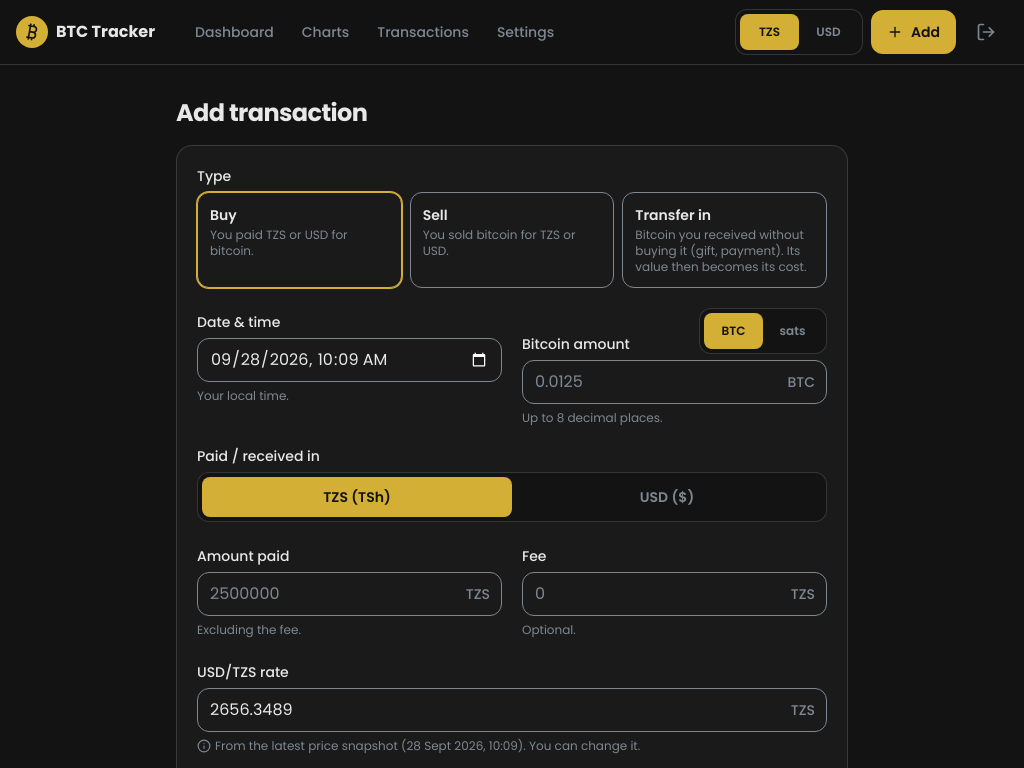
it: Add transaction form › shows validation errors that mirror the server rules
This screenshot has width=1024, height=768.
Click the radio button labelled "Sell You sold bitcoin for TZS or USD." at (512, 240), box [410,192,614,288]
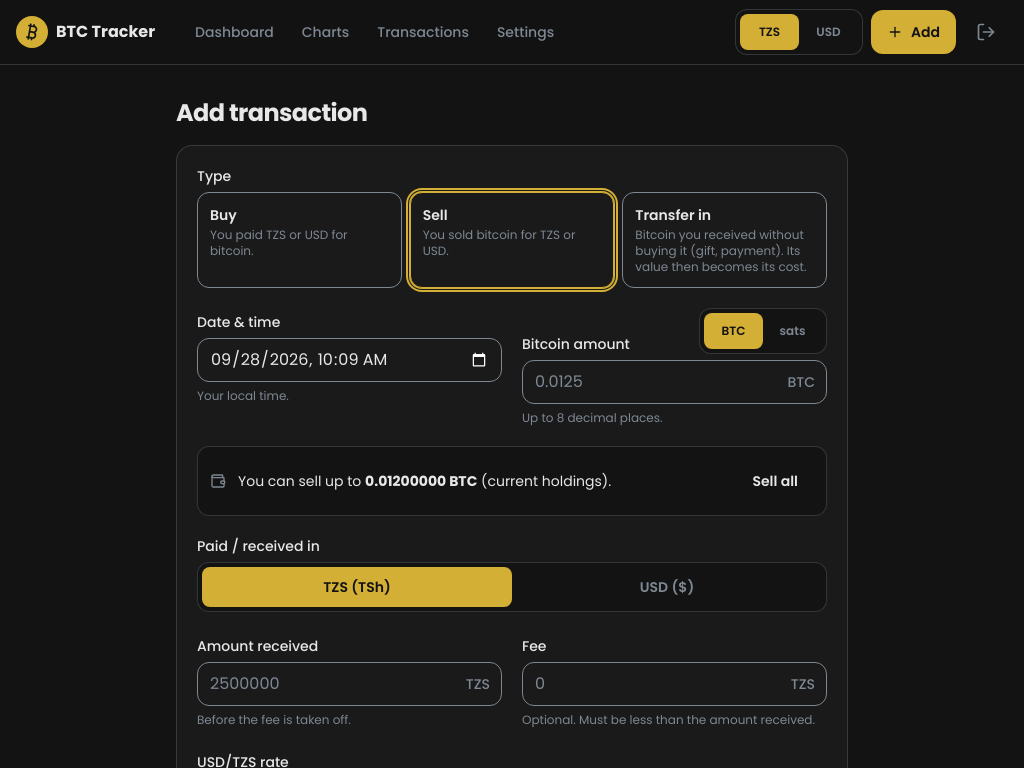
Type "0.123456789" into the field labelled "Bitcoin amount" at (674, 382), box [522,360,827,404]
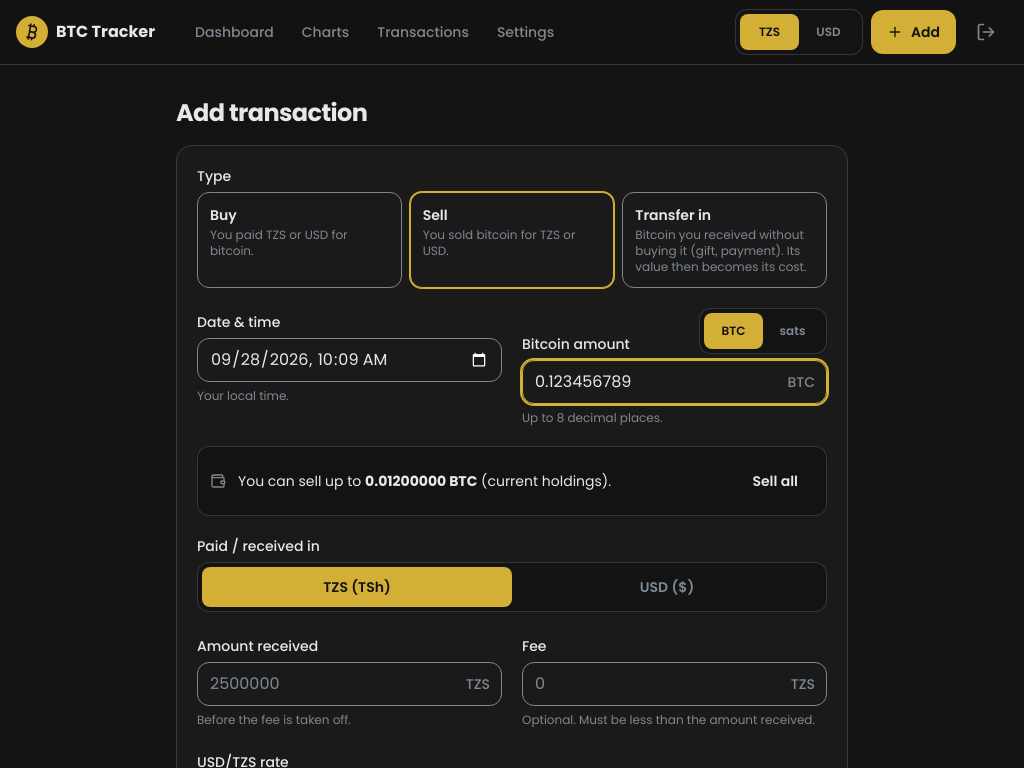
Type "330" into the field labelled "Amount received" at (350, 684), box [197,662,502,706]
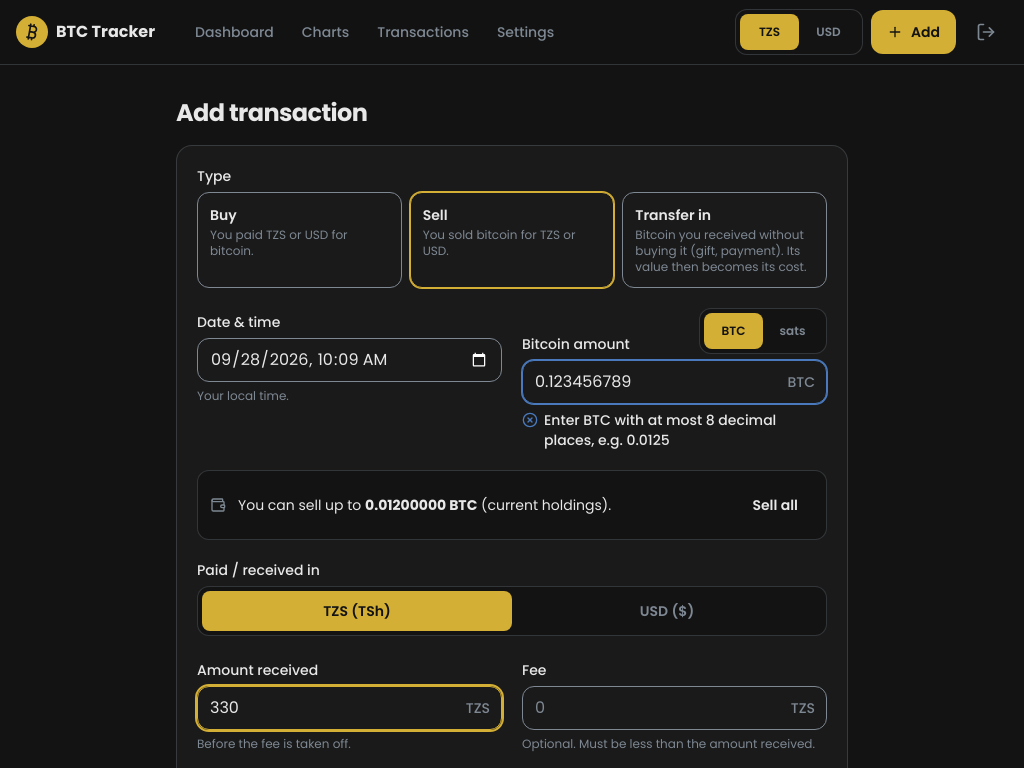
Type "330" into the field labelled "Fee" at (674, 708), box [522,686,827,730]
(page scrolled)
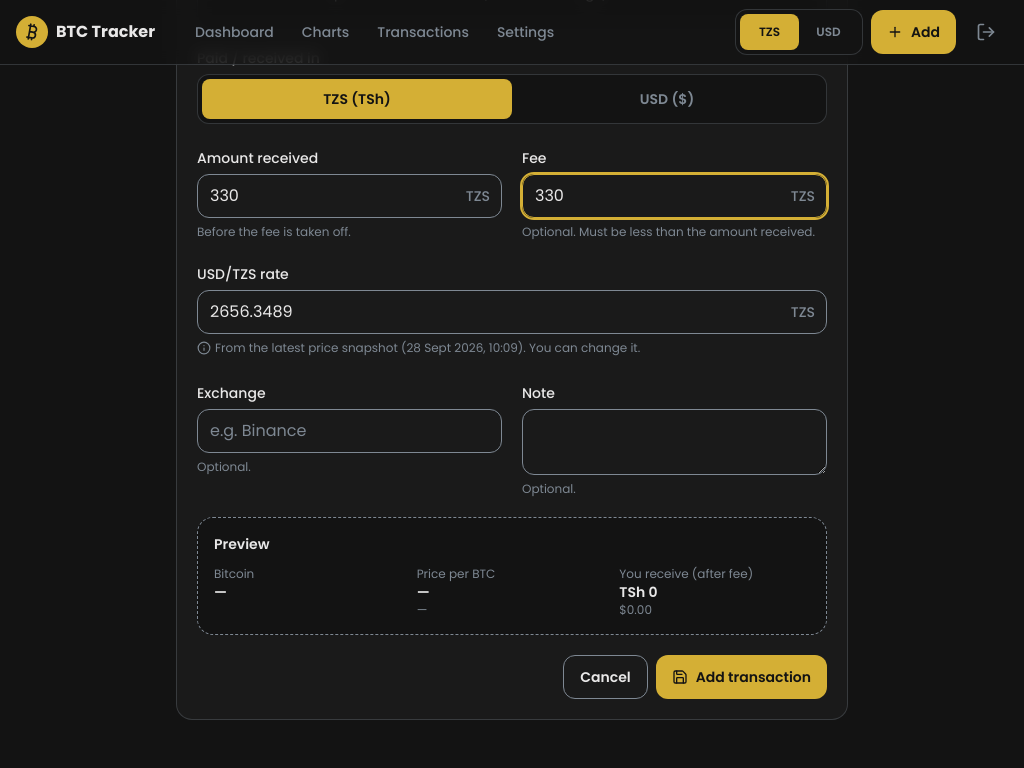
Click the button "Add transaction" at (741, 677), box [656,655,827,699]
(page scrolled)
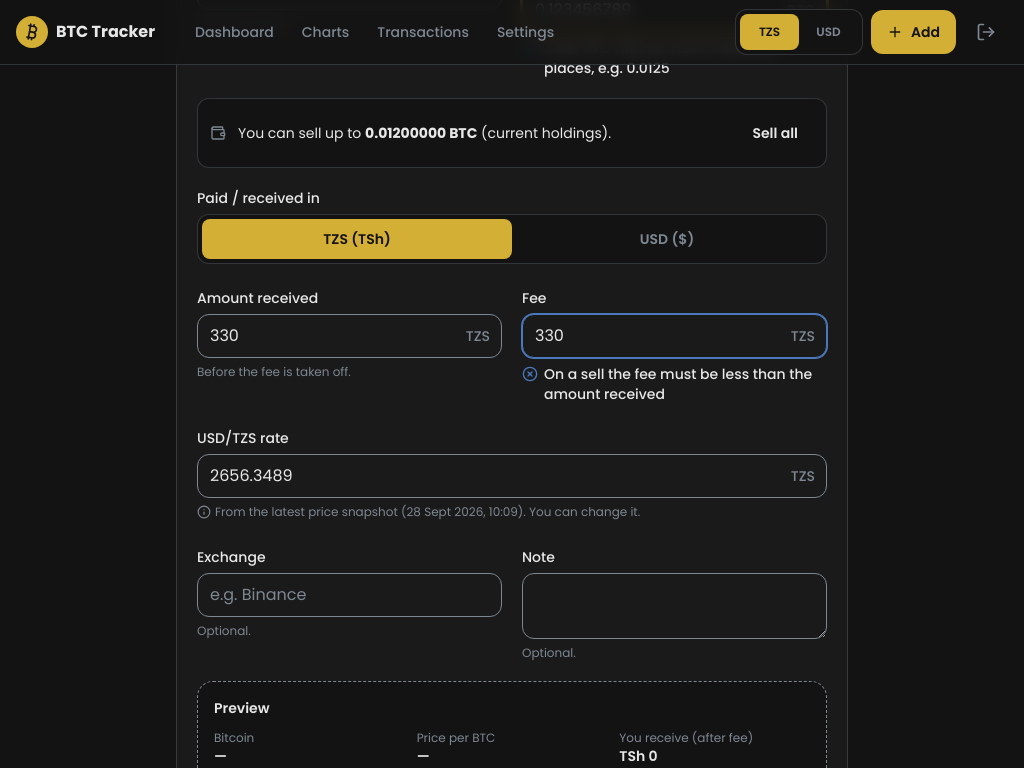
Check: the text "Enter BTC with at most 8 decimal places, e.g. 0.0125" is shown, box [522,38,776,78]
Check: the text "On a sell the fee must be less than the amount received" is shown, box [522,364,827,404]
